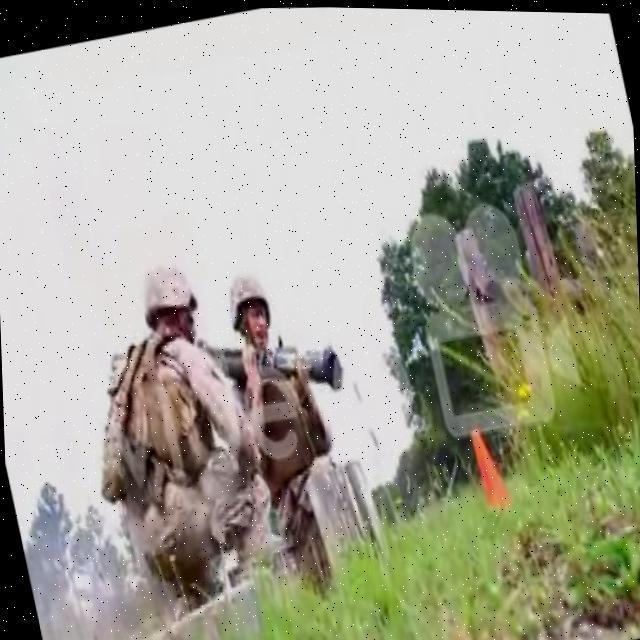rocket: (198, 310, 346, 414)
